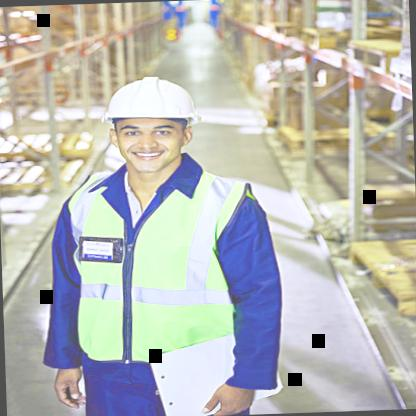helmet: (92, 69, 213, 186)
